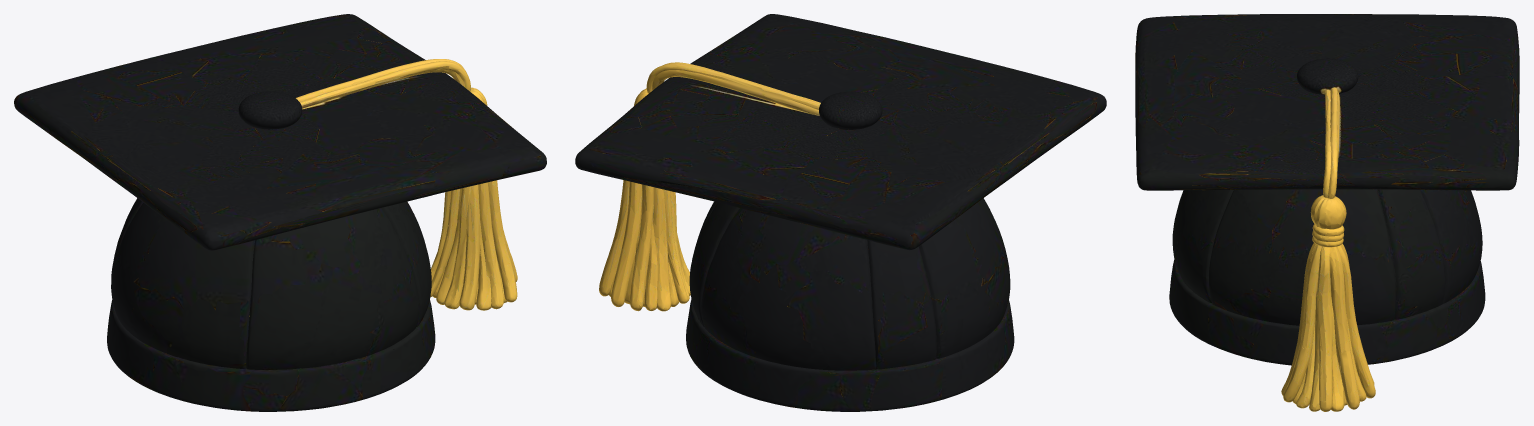
File: graduation_cap.glb
The picture shows the model from 3 angles, left to right: view 1: azimuth 30°, elevation 25°; view 2: azimuth 150°, elevation 25°; view 3: azimuth 270°, elevation 25°; orthographic projection. The views are drawn at different scales.
Visible parts, largest first — view 1: output_unwrapped; view 2: output_unwrapped; view 3: output_unwrapped.
Part boxes in pixels (box(x1,y1,x2,y2)): output_unwrapped: box(14, 14, 546, 411); output_unwrapped: box(575, 14, 1106, 411); output_unwrapped: box(1135, 14, 1519, 411).
Size of the model in its own units: 1.9 by 1.09 by 1.61.
Materials: 1 (1 with a texture image).
